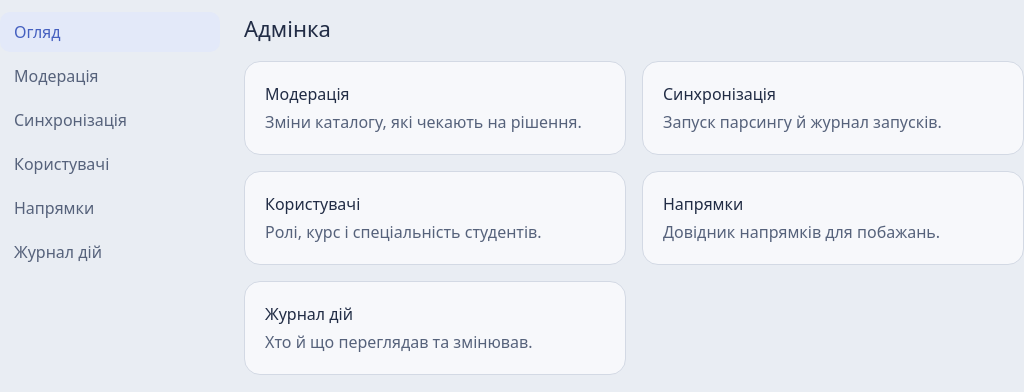
Scenario: AdminLayout › перехід по пункту меню показує відповідний екран
Click the link "Користувачі" at (62, 164), box [14,153,109,175]
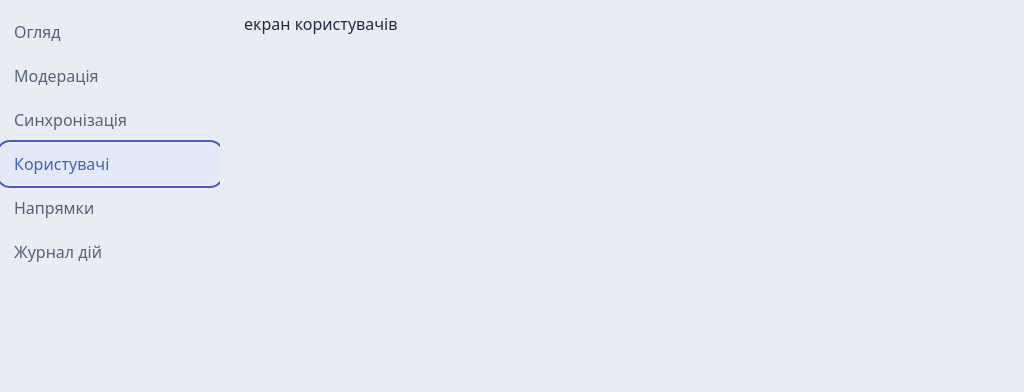
Expected: the text "екран користувачів" is shown, [244,13,397,35]
